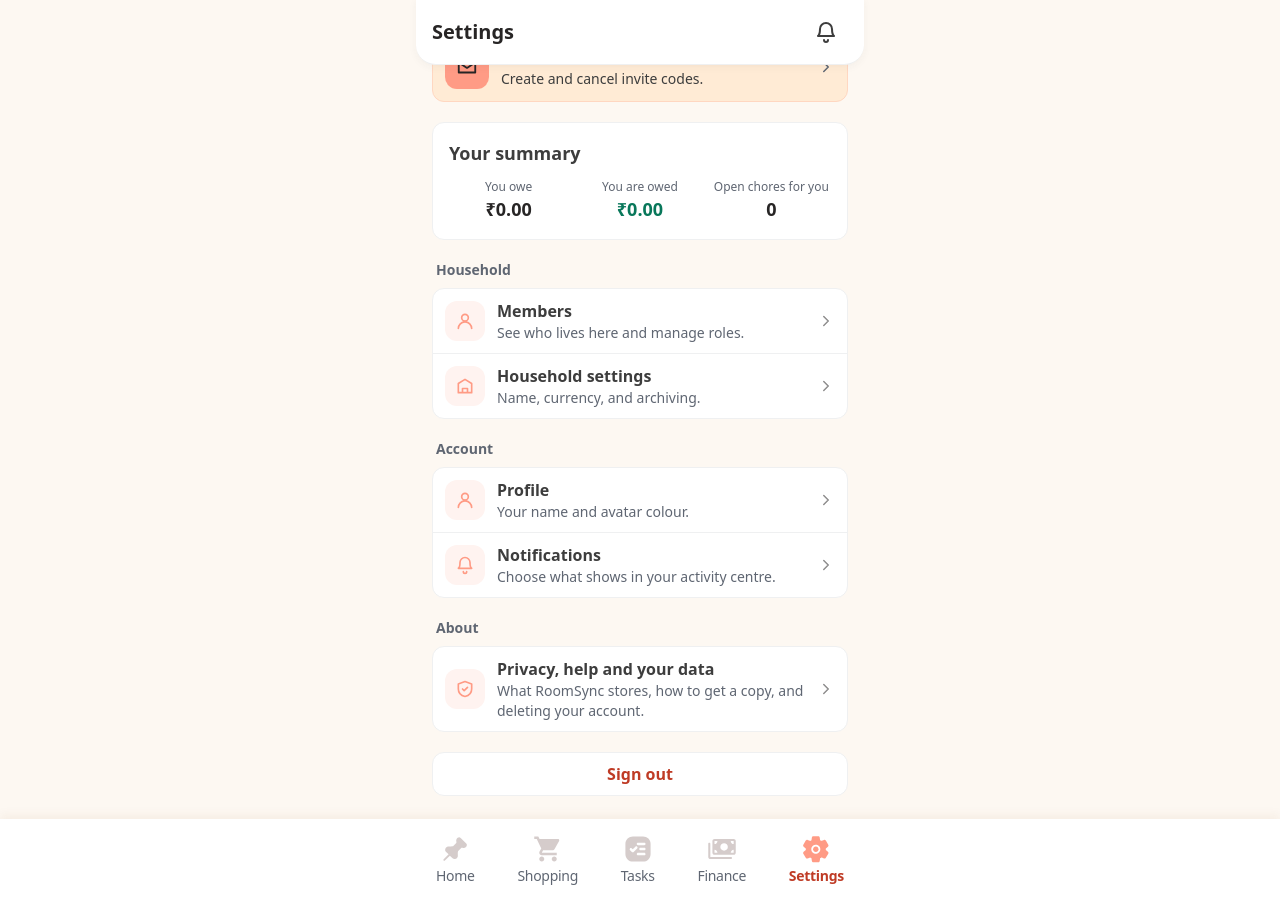
Test: routing and guards › a failed sign-out tells the user instead of failing silently
(page scrolled)
Click the button "Sign out": coordinates (640, 774) [432, 752, 848, 796]
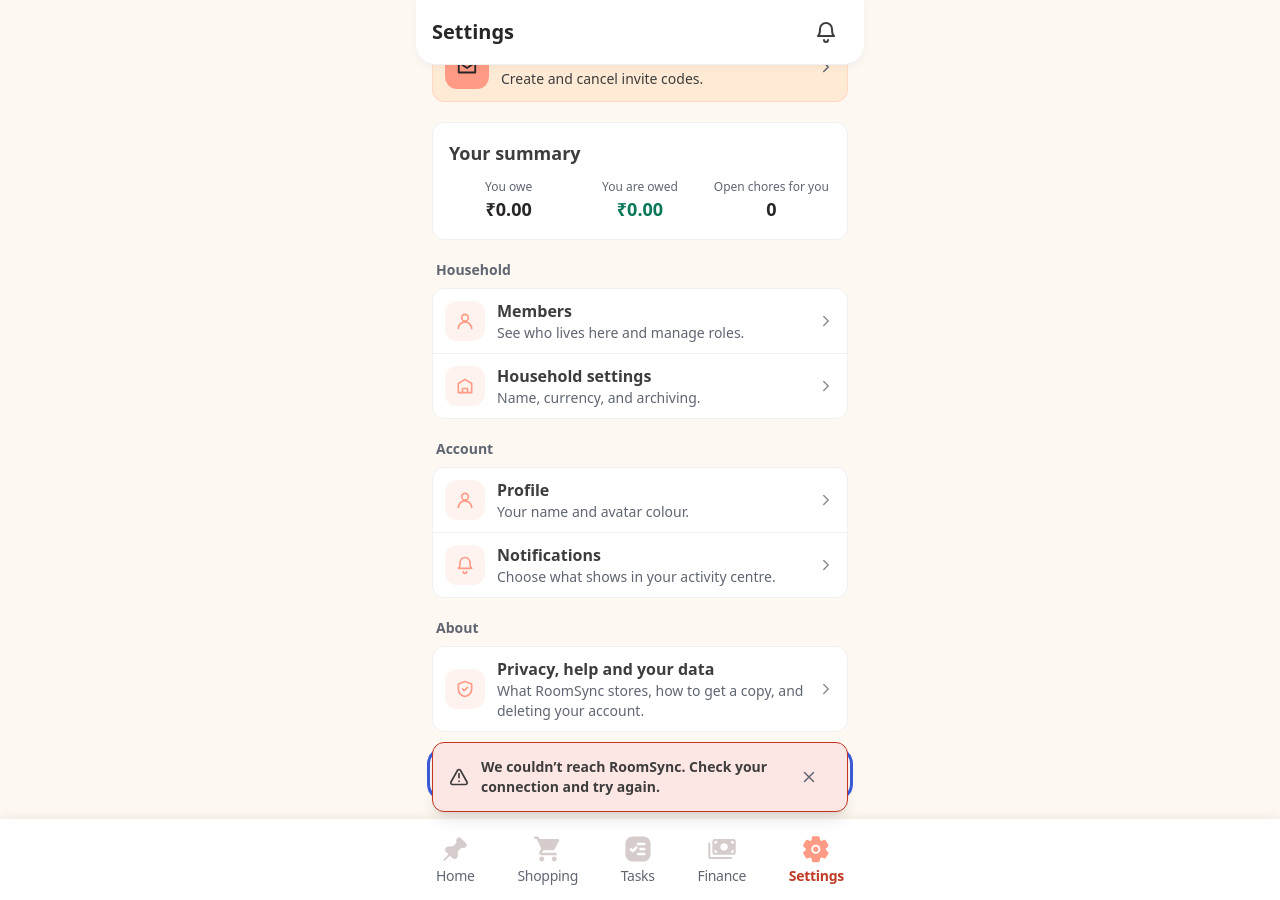
Result: the message reads "We couldn’t reach RoomSync. Check your connection and try again." at [481, 757, 767, 796]
